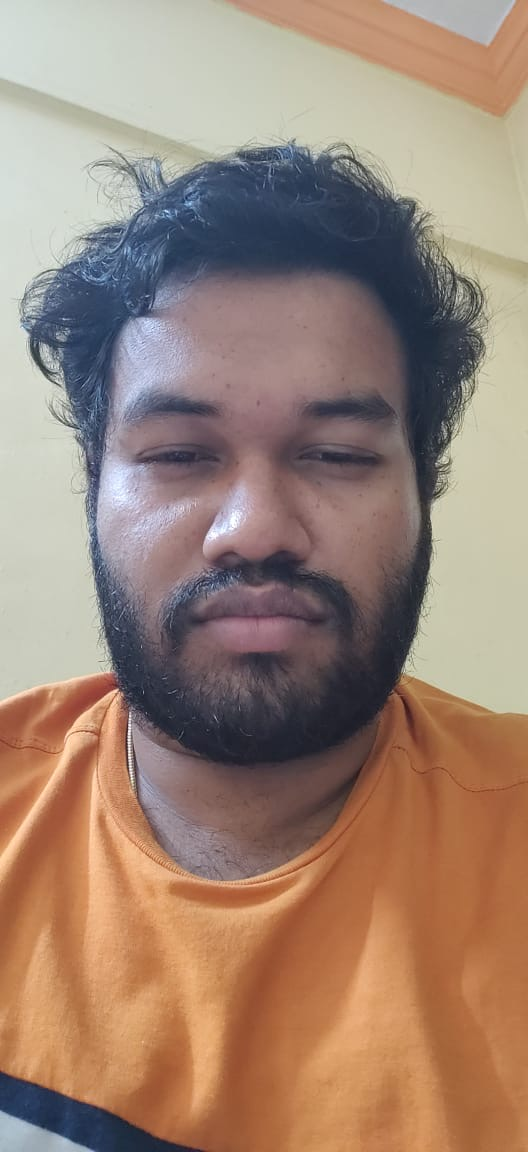Half Asleep: (106, 420, 424, 490)
